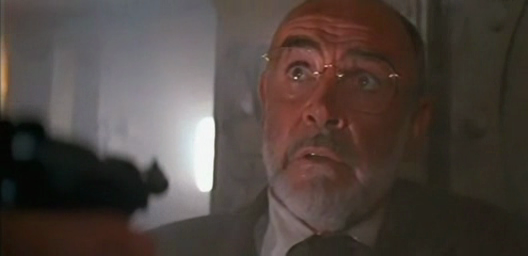cu: (1, 1, 528, 256)
face: (261, 5, 425, 226)
person: (104, 1, 528, 256)
